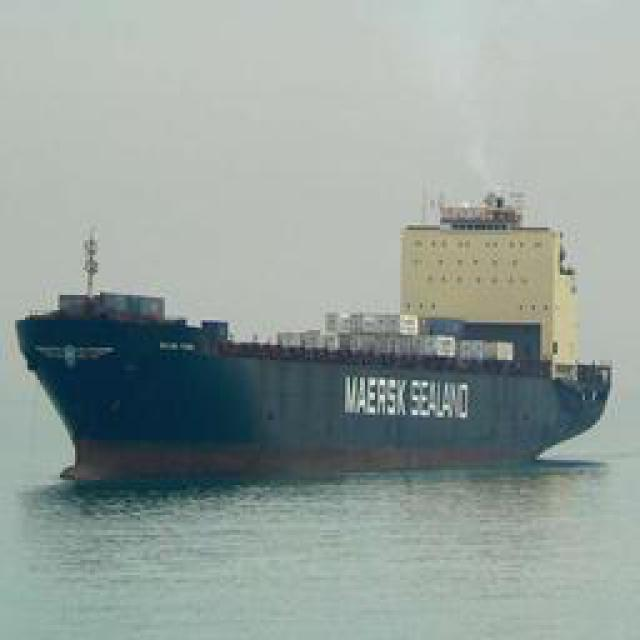Ship: (21, 281, 611, 484)
